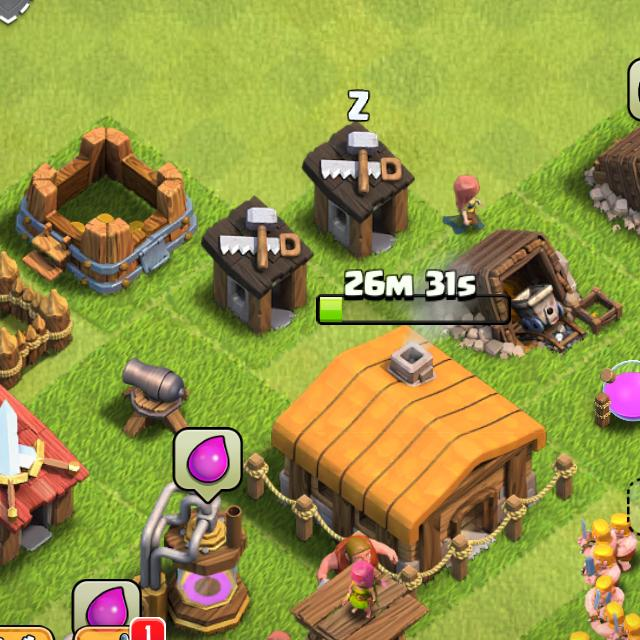Elixir: (176, 431, 241, 501), (76, 579, 139, 633)
